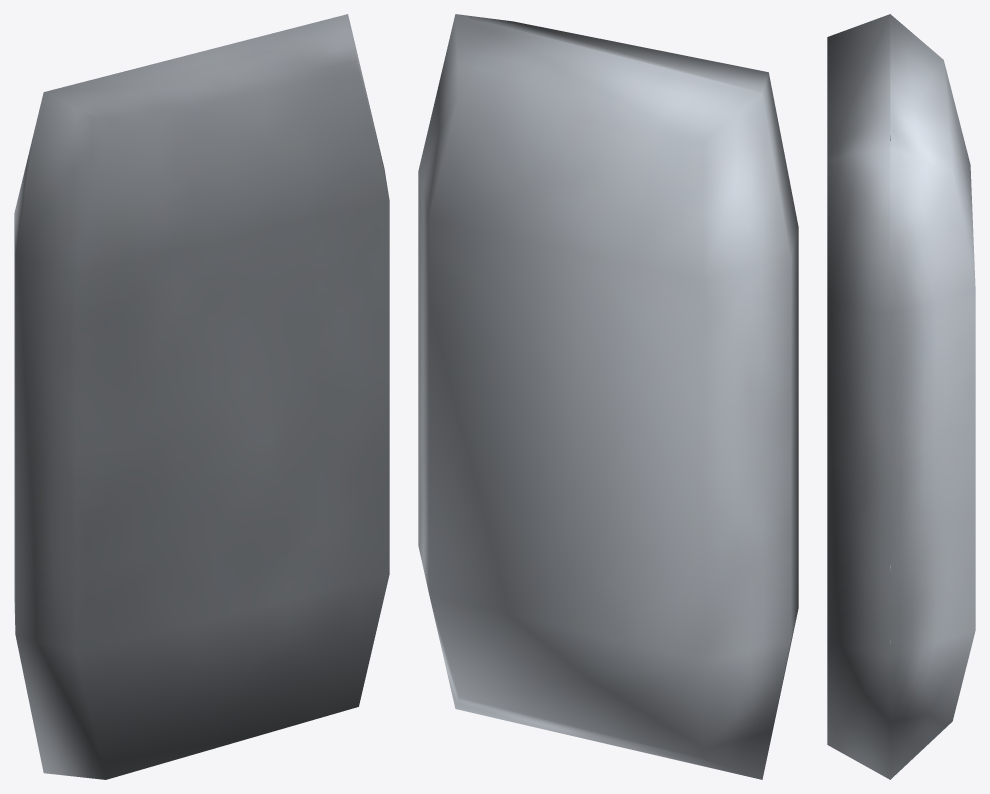
File: props_pillow_white.fbx
The picture shows the model from 3 angles, left to right: view 1: azimuth 30°, elevation 25°; view 2: azimuth 150°, elevation 25°; view 3: azimuth 270°, elevation 25°; orthographic projection. The views are drawn at different scales.
Parts seen in each view (by area): view 1: pillow_white; view 2: pillow_white; view 3: pillow_white.
Boxes of the visible parts, box(x1,y1,x2,y2) form: pillow_white: box(14, 14, 389, 779); pillow_white: box(418, 14, 798, 779); pillow_white: box(827, 14, 975, 779).
Bounding box in the file's own units: 0.477 × 0.8504 × 0.1804.
Materials: 1 (1 with a texture image).
